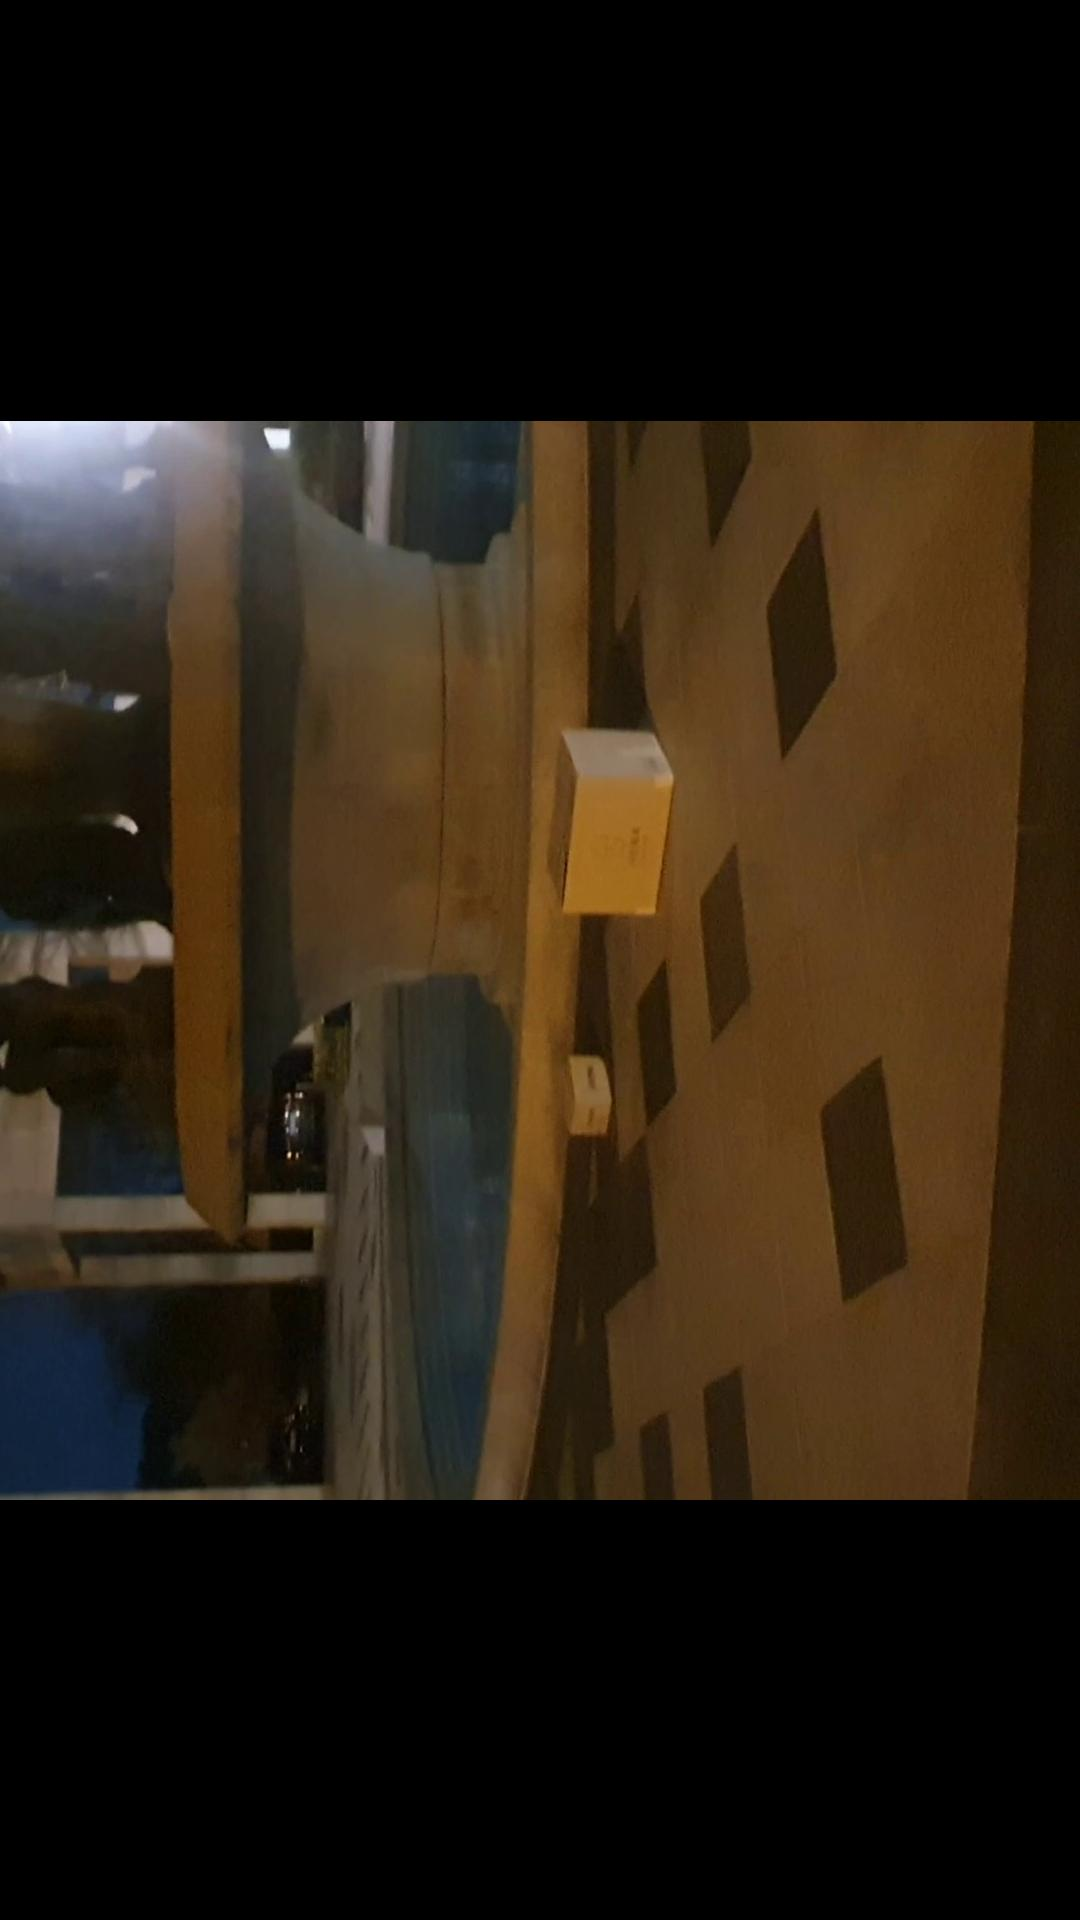Box: (527, 711, 698, 922), (543, 1035, 625, 1142)
